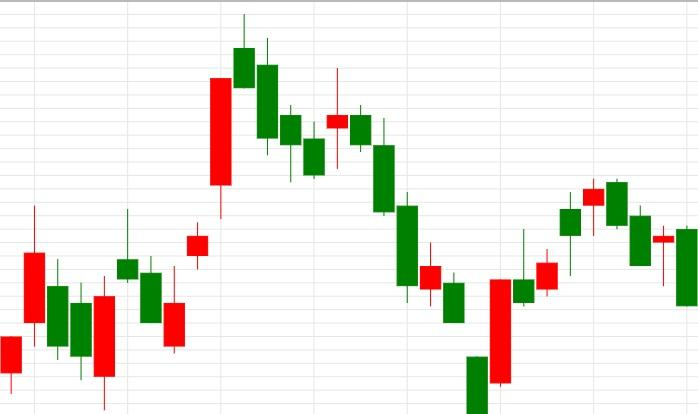bullish_engulfing_rise: (23, 206, 116, 410)
three_white_soldiers_rise: (117, 78, 233, 354)
